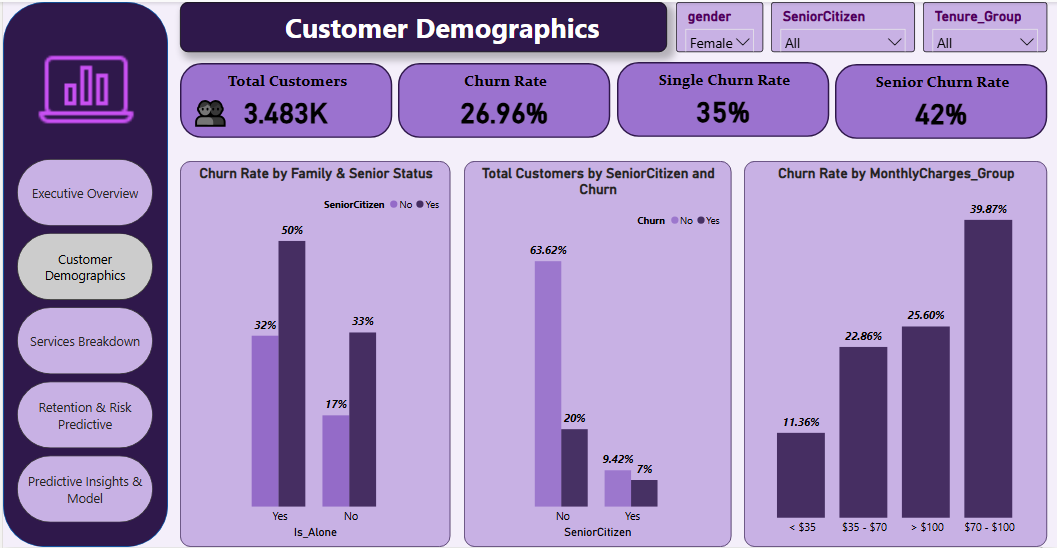

This screenshot's page, from the dashboard's own definition file:
{"tool":"powerbi","page":{"name":"Customer Demographics","canvas":[1450,750],"ordinal":1},"visuals":[{"type":"textbox","box":[243,0,669.8,68.7],"z":0},{"type":"slicer","fields":{"Values":["Data_Transformed.gender"]},"box":[925.6,0,119.9,68.7],"z":1000},{"type":"slicer","fields":{"Values":["Data_Transformed.SeniorCitizen"]},"box":[1056.7,0,198.2,68.7],"z":2000},{"type":"slicer","fields":{"Values":["Data_Transformed.TenureGroup"]},"box":[1266.2,0,171.1,68.7],"z":3000},{"type":"clusteredColumnChart","title":"Churn Rate by Family & Senior Status","fields":{"Category":["Data_Transformed.Is_Alone"],"Series":["Data_Transformed.SeniorCitizen"],"Y":["_Measures.Churn Rate %"]},"box":[243,219,372.5,530.8],"z":4000},{"type":"clusteredColumnChart","title":"Total Customers by SeniorCitizen and Churn","fields":{"Category":["Data_Transformed.SeniorCitizen"],"Series":["Data_Transformed.Churn"],"Y":["Divide(_Measures.Total Customers, ScopedEval(_Measures.Total Customers, []))"]},"box":[633.9,219,367.7,530.8],"z":5000},{"type":"clusteredColumnChart","title":"Churn Rate by MonthlyCharges_Group","fields":{"Category":["Data_Transformed.MonthlyChargesGroup"],"Y":["_Measures.Churn Rate %"]},"box":[1020,219,417.3,530.8],"z":6000},{"type":"advanceCardE03760C5AB684758B56AA29F9E6C257B","title":"Total Customers","fields":{"mainMeasure":["_Measures.Total Customers"]},"box":[243,83.7,292.3,103.3],"z":7000},{"type":"advanceCardE03760C5AB684758B56AA29F9E6C257B","title":"Churn Rate ","fields":{"mainMeasure":["_Measures.Churn Rate %"]},"box":[543.6,84.2,292.3,103.3],"z":8000},{"type":"advanceCardE03760C5AB684758B56AA29F9E6C257B","title":"Single Churn Rate ","fields":{"mainMeasure":["_Measures.Single Churn Rate %"]},"box":[844.1,83.1,292.3,103.3],"z":9000},{"type":"advanceCardE03760C5AB684758B56AA29F9E6C257B","title":"Senior Churn Rate ","fields":{"mainMeasure":["_Measures.Senior Churn Rate %"]},"box":[1144.7,84.7,292.3,103.3],"z":10000},{"type":"shape","box":[0,0,227,749.8],"z":11000},{"type":"image","box":[44.8,52.8,137.5,136.1],"z":12000},{"type":"pageNavigator","box":[18.9,215.6,187.3,502.6],"z":13000},{"type":"textbox","box":[253.9,118.1,64.7,67.4],"z":14000}]}

Visuals, with their boxes in screenshot pixels (x1, y1, x2, y2), scaled from the page's 1450x750 canvas onto the 1057x548 screenshot:
textbox: x1=177 y1=0 x2=665 y2=50
slicer - Data_Transformed.gender: x1=675 y1=0 x2=762 y2=50
slicer - Data_Transformed.SeniorCitizen: x1=770 y1=0 x2=915 y2=50
slicer - Data_Transformed.TenureGroup: x1=923 y1=0 x2=1048 y2=50
"Churn Rate by Family & Senior Status" clusteredColumnChart: x1=177 y1=160 x2=449 y2=547
"Total Customers by SeniorCitizen and Churn" clusteredColumnChart: x1=462 y1=160 x2=730 y2=547
"Churn Rate by MonthlyCharges_Group" clusteredColumnChart: x1=744 y1=160 x2=1048 y2=547
"Total Customers" advanceCardE03760C5AB684758B56AA29F9E6C257B: x1=177 y1=61 x2=390 y2=137
"Churn Rate " advanceCardE03760C5AB684758B56AA29F9E6C257B: x1=396 y1=62 x2=609 y2=137
"Single Churn Rate " advanceCardE03760C5AB684758B56AA29F9E6C257B: x1=615 y1=61 x2=828 y2=136
"Senior Churn Rate " advanceCardE03760C5AB684758B56AA29F9E6C257B: x1=834 y1=62 x2=1048 y2=137
shape: x1=0 y1=0 x2=165 y2=547
image: x1=33 y1=39 x2=133 y2=138
pageNavigator: x1=14 y1=158 x2=150 y2=525
textbox: x1=185 y1=86 x2=232 y2=136
